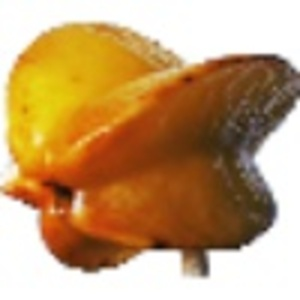carambola: (1, 19, 300, 279)
